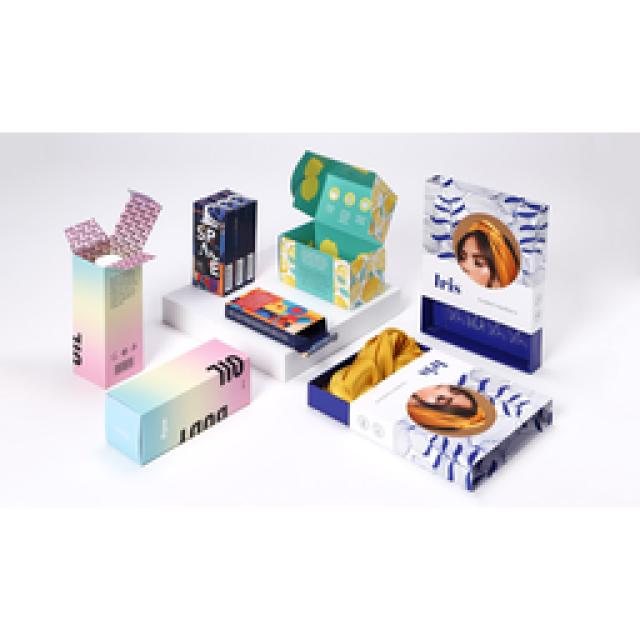cardboard: (105, 151, 400, 463), (308, 325, 552, 489), (420, 174, 549, 373), (61, 187, 165, 389)
